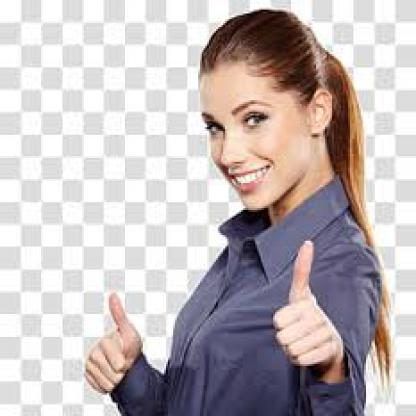Thumbs up: (266, 235, 346, 379), (79, 287, 150, 398)
